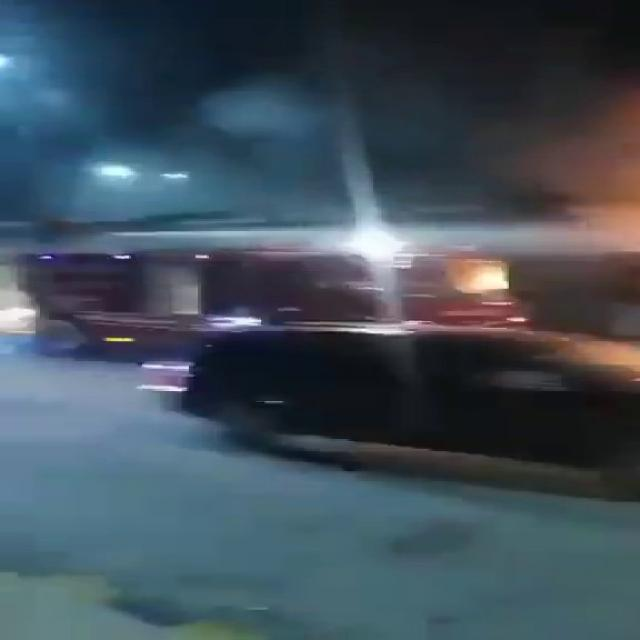Fire: (449, 254, 516, 307)
